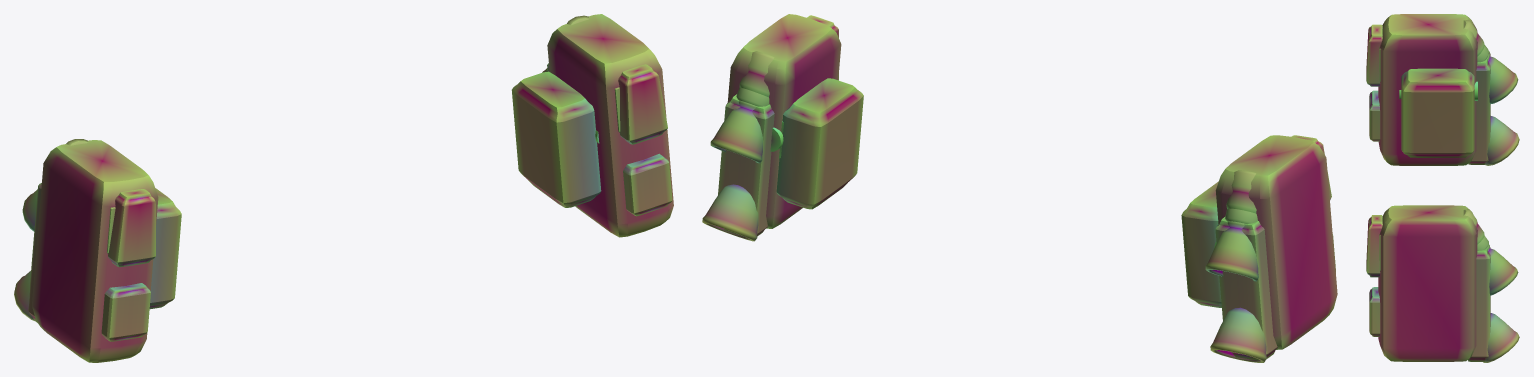
File: llm_gen_leg_thrusters_091_3b1ca5.glb
3 renders of one model, left to right at view 1: azimuth 30°, elevation 25°; view 2: azimuth 150°, elevation 25°; view 3: azimuth 270°, elevation 25°, orthographic. The views are drawn at different scales.
Parts seen in each view (by area): view 1: outer_shin_armor_0_zeon_olive_coat_l, outer_shin_armor_0_zeon_olive_coat_r, adapter_calf_clamp_r, knee_guard_blade_2_amber_optic_l, knee_guard_blade_2_amber_optic_r, adapter_calf_clamp_l, lower_shin_bumper_4_era_block_l, lower_shin_bumper_4_era_block_r, rear_thruster_manifold_dark_5_adapter_dark_l, rear_surge_bell_bot_7_vernier_bell_vernier_l; view 2: outer_shin_armor_0_zeon_olive_coat_l, adapter_calf_clamp_r, outer_shin_armor_0_zeon_olive_coat_r, adapter_calf_clamp_l, rear_thruster_manifold_dark_5_adapter_dark_l, rear_thruster_manifold_dark_5_adapter_dark_r, rear_surge_bell_bot_7_vernier_bell_vernier_r, rear_surge_bell_bot_7_vernier_bell_vernier_l, rear_surge_bell_top_6_vernier_bell_vernier_r, rear_surge_bell_top_6_vernier_bell_vernier_l, rear_surge_bell_top_6_vernier_bell_gimbal_collar_dark_r, rear_surge_bell_top_6_vernier_bell_gimbal_collar_dark_l; view 3: outer_shin_armor_0_zeon_olive_coat_r, outer_shin_armor_0_zeon_olive_coat_l, adapter_calf_clamp_l, rear_thruster_manifold_dark_5_adapter_dark_r, rear_thruster_manifold_dark_5_adapter_dark_l, rear_surge_bell_bot_7_vernier_bell_vernier_l, rear_surge_bell_bot_7_vernier_bell_vernier_r, rear_surge_bell_top_6_vernier_bell_vernier_l, rear_surge_bell_top_6_vernier_bell_vernier_r, knee_guard_blade_2_amber_optic_l, knee_guard_blade_2_amber_optic_r, lower_shin_bumper_4_era_block_l (+3 smaller).
Boxes of the visible parts, x1=… form: outer_shin_armor_0_zeon_olive_coat_l: x1=32, y1=140, x2=158, y2=362; outer_shin_armor_0_zeon_olive_coat_r: x1=547, y1=14, x2=673, y2=237; adapter_calf_clamp_r: x1=511, y1=71, x2=601, y2=207; knee_guard_blade_2_amber_optic_l: x1=108, y1=189, x2=155, y2=267; knee_guard_blade_2_amber_optic_r: x1=618, y1=64, x2=667, y2=144; adapter_calf_clamp_l: x1=149, y1=188, x2=181, y2=309; lower_shin_bumper_4_era_block_l: x1=101, y1=283, x2=150, y2=341; lower_shin_bumper_4_era_block_r: x1=623, y1=153, x2=672, y2=216; rear_thruster_manifold_dark_5_adapter_dark_l: x1=28, y1=183, x2=41, y2=322; rear_surge_bell_bot_7_vernier_bell_vernier_l: x1=14, y1=271, x2=34, y2=320; outer_shin_armor_0_zeon_olive_coat_l: x1=1215, y1=135, x2=1337, y2=349; adapter_calf_clamp_r: x1=776, y1=78, x2=863, y2=209; outer_shin_armor_0_zeon_olive_coat_r: x1=727, y1=14, x2=841, y2=228; adapter_calf_clamp_l: x1=1181, y1=181, x2=1221, y2=307; rear_thruster_manifold_dark_5_adapter_dark_l: x1=1215, y1=217, x2=1277, y2=360; rear_thruster_manifold_dark_5_adapter_dark_r: x1=718, y1=94, x2=774, y2=236; rear_surge_bell_bot_7_vernier_bell_vernier_r: x1=702, y1=184, x2=758, y2=241; rear_surge_bell_bot_7_vernier_bell_vernier_l: x1=1210, y1=307, x2=1266, y2=362; rear_surge_bell_top_6_vernier_bell_vernier_r: x1=710, y1=100, x2=762, y2=163; rear_surge_bell_top_6_vernier_bell_vernier_l: x1=1205, y1=221, x2=1258, y2=281; rear_surge_bell_top_6_vernier_bell_gimbal_collar_dark_r: x1=739, y1=51, x2=774, y2=97; rear_surge_bell_top_6_vernier_bell_gimbal_collar_dark_l: x1=1226, y1=170, x2=1256, y2=213; outer_shin_armor_0_zeon_olive_coat_r: x1=1378, y1=205, x2=1477, y2=361; outer_shin_armor_0_zeon_olive_coat_l: x1=1378, y1=14, x2=1477, y2=165; adapter_calf_clamp_l: x1=1401, y1=68, x2=1474, y2=157; rear_thruster_manifold_dark_5_adapter_dark_r: x1=1468, y1=247, x2=1490, y2=361; rear_thruster_manifold_dark_5_adapter_dark_l: x1=1468, y1=51, x2=1490, y2=164; rear_surge_bell_bot_7_vernier_bell_vernier_l: x1=1485, y1=116, x2=1519, y2=165; rear_surge_bell_bot_7_vernier_bell_vernier_r: x1=1483, y1=313, x2=1519, y2=362; rear_surge_bell_top_6_vernier_bell_vernier_l: x1=1487, y1=53, x2=1518, y2=104; rear_surge_bell_top_6_vernier_bell_vernier_r: x1=1486, y1=244, x2=1518, y2=295; knee_guard_blade_2_amber_optic_l: x1=1366, y1=24, x2=1382, y2=86; knee_guard_blade_2_amber_optic_r: x1=1366, y1=215, x2=1382, y2=277; lower_shin_bumper_4_era_block_l: x1=1369, y1=90, x2=1380, y2=141.
Size of the model in its own units: 78.09 by 23.8 by 22.94.
